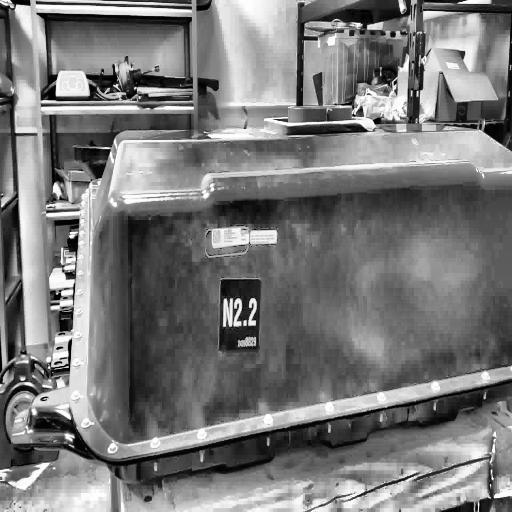b_casing: (69, 128, 512, 490)
nut: (430, 377, 443, 395), (262, 410, 275, 428), (195, 425, 208, 443), (149, 434, 161, 452), (80, 417, 95, 430), (106, 441, 118, 457), (324, 398, 335, 415), (480, 368, 492, 383), (69, 389, 81, 403), (375, 391, 387, 404), (71, 357, 82, 369), (73, 330, 82, 341), (74, 307, 83, 317), (78, 252, 86, 263), (78, 238, 86, 249), (76, 286, 83, 296), (76, 270, 84, 278), (78, 230, 86, 238), (79, 217, 86, 224), (80, 207, 86, 215)
